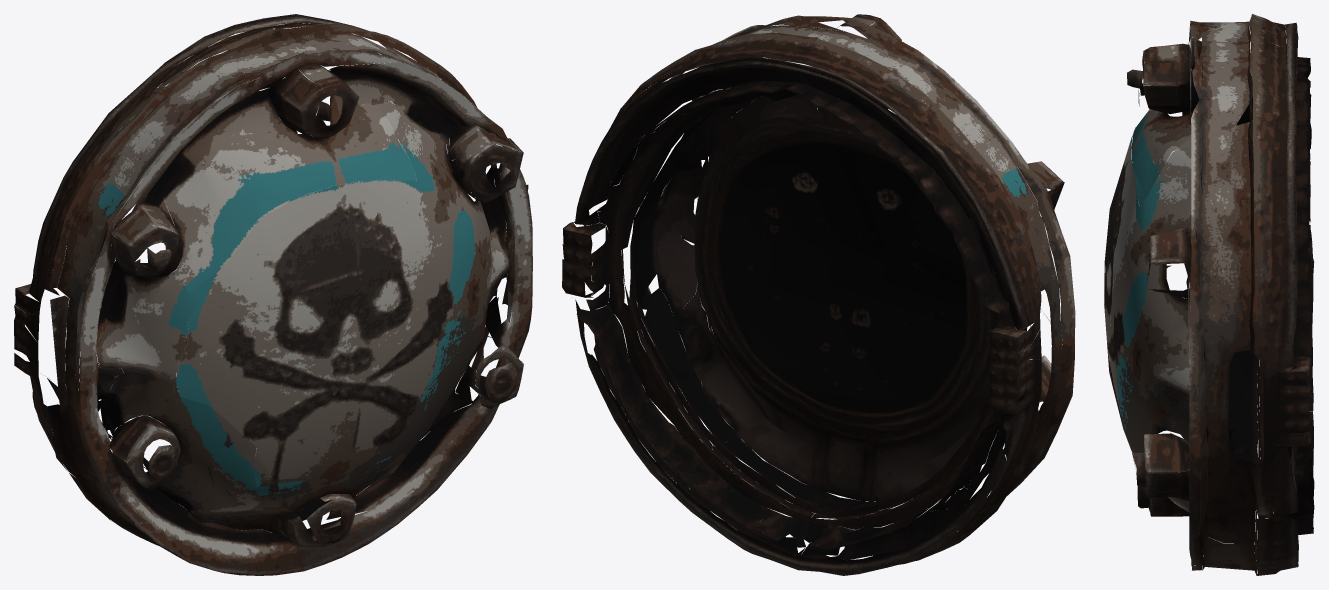
File: pl_hubcap.glb
3 renders of one model, left to right at view 1: azimuth 30°, elevation 25°; view 2: azimuth 150°, elevation 25°; view 3: azimuth 270°, elevation 25°, orthographic.
Visible parts, largest first — view 1: pl_hubcap; view 2: pl_hubcap; view 3: pl_hubcap.
Boxes of the visible parts, left/top/right/bottom form: pl_hubcap: left=14, top=14, right=532, bottom=575; pl_hubcap: left=562, top=14, right=1075, bottom=575; pl_hubcap: left=1104, top=14, right=1314, bottom=575.
Size of the model in its own units: 0.1254 by 0.1317 by 0.0483.
1 material, 1 textured.
